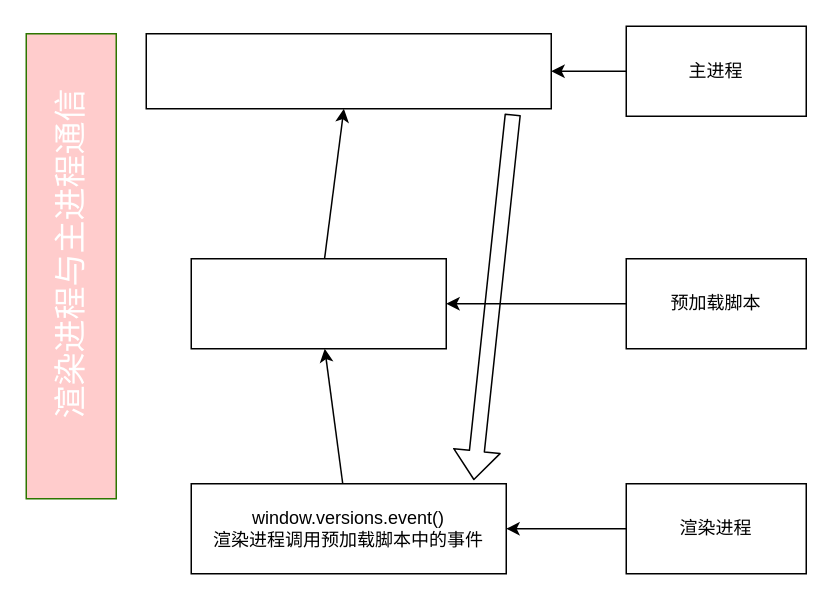
The diagram is 833 pixels wide and 600 high, and some of its shapes have lost their labels. The box of each missing label's shape, as (x1, y1, x2, y2) in pixels:
ipcMain.handle(‘event,callback) 主进程中处理渲染进程中调用预加载脚本中invoke的事件: (145, 32, 551, 109)
ipcRender.invoke(‘event’) 预加载脚中invoke事件: (190, 257, 446, 349)
